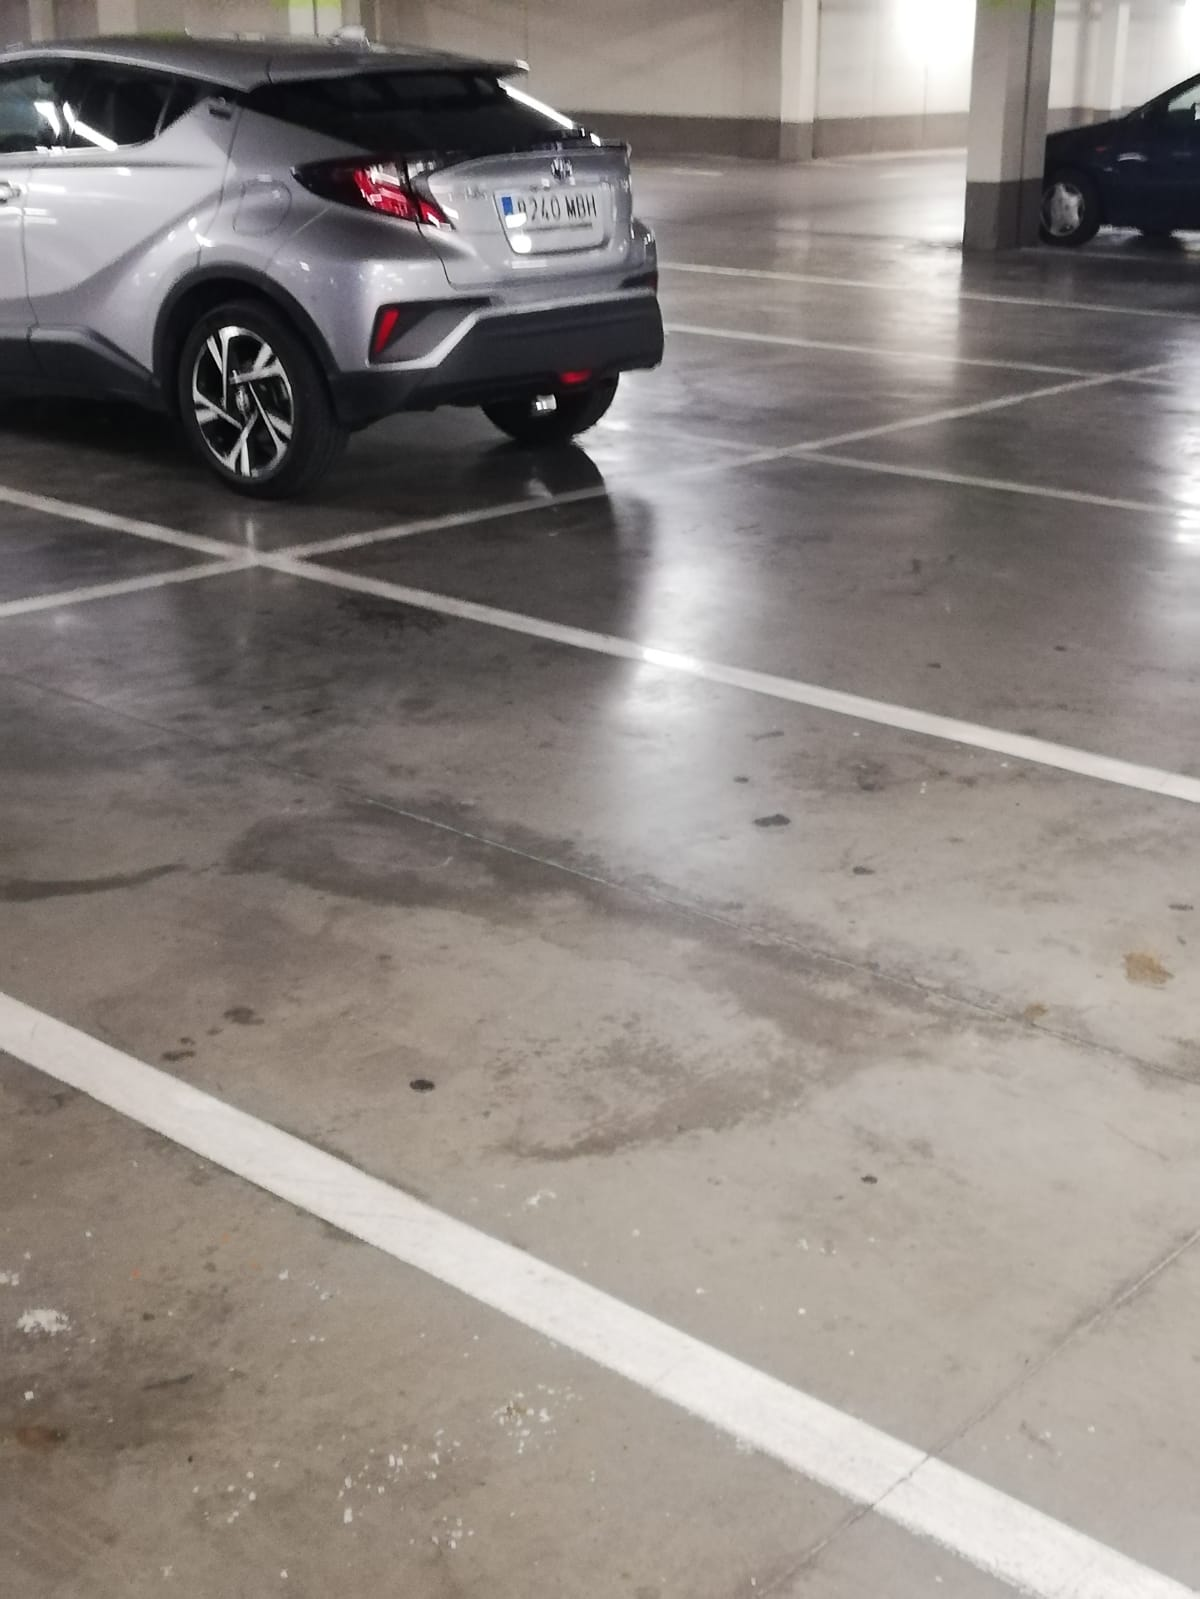Car: (0, 39, 668, 457)
Plate: (495, 189, 606, 224)
